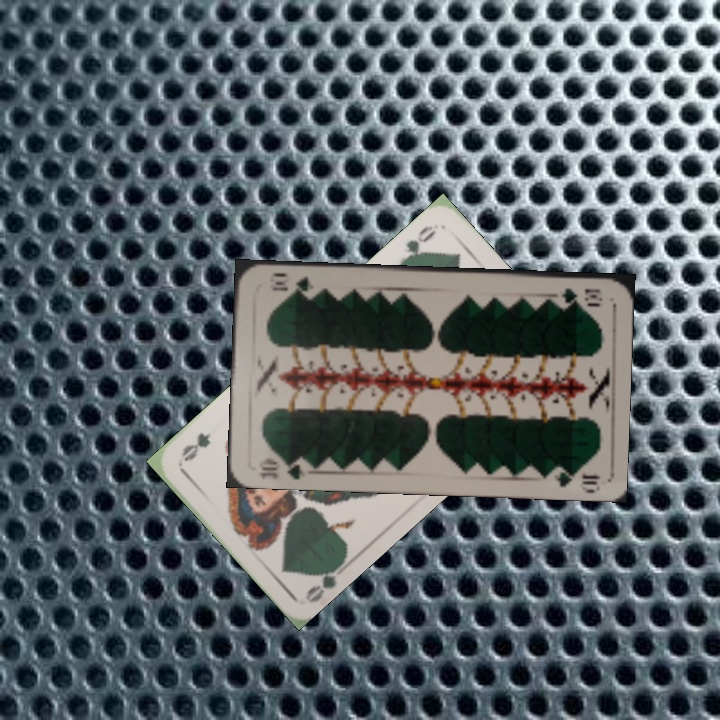G10: (254, 454, 311, 482), (558, 284, 605, 307)
GO: (302, 555, 348, 605), (394, 221, 439, 269)
